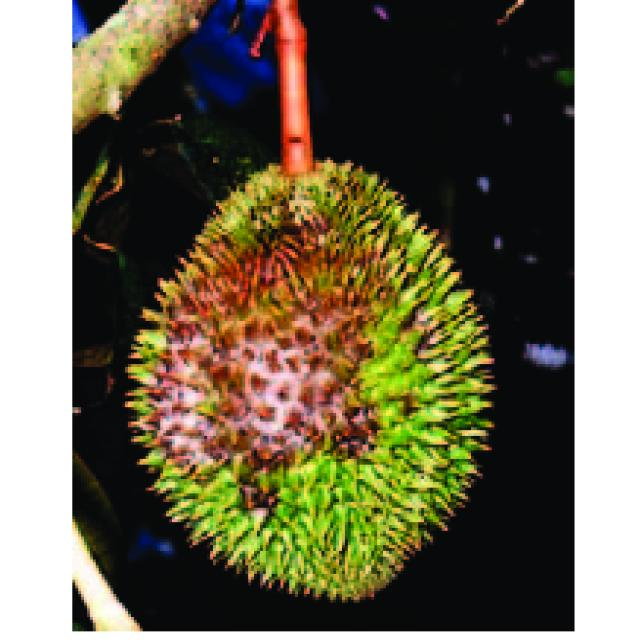defective: (131, 149, 504, 609)
